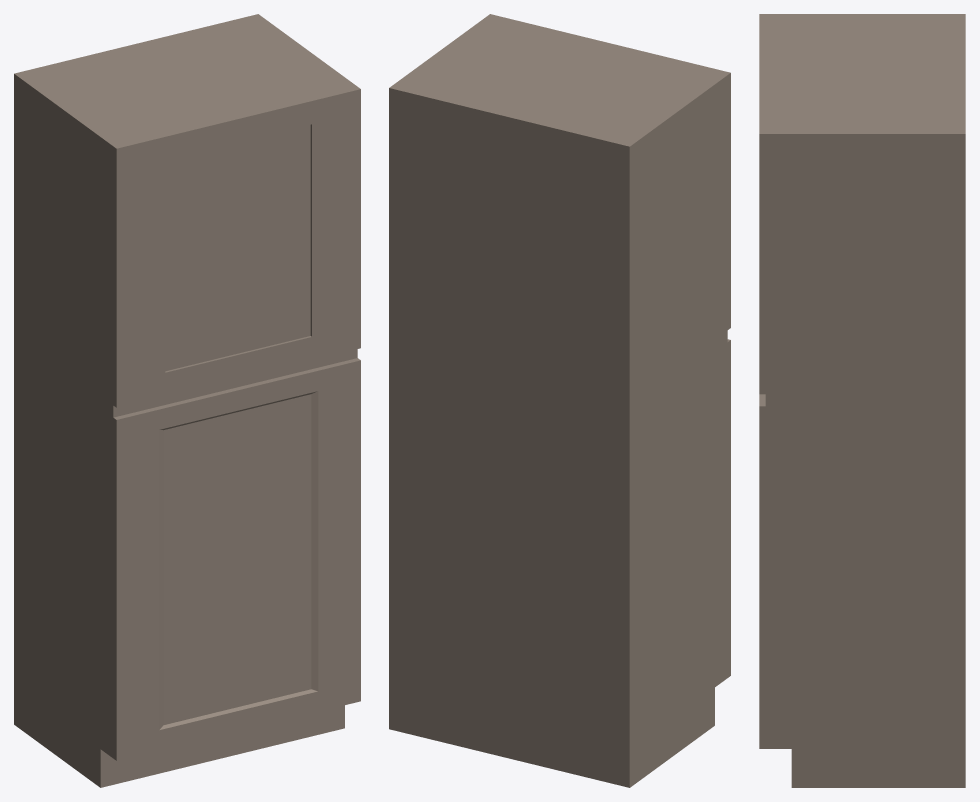
File: Utility-Cabinet-24-Deep_std_001_W33in_2D.glb
3 renders of one model, left to right at view 1: azimuth 30°, elevation 25°; view 2: azimuth 150°, elevation 25°; view 3: azimuth 270°, elevation 25°, orthographic. The views are drawn at different scales.
Visible parts, largest first — view 1: Utility-Cabinet-24-Deep.std.001_W33in_2D; view 2: Utility-Cabinet-24-Deep.std.001_W33in_2D; view 3: Utility-Cabinet-24-Deep.std.001_W33in_2D.
Part boxes in pixels (bbox=[...]): Utility-Cabinet-24-Deep.std.001_W33in_2D: bbox=[14, 14, 360, 787]; Utility-Cabinet-24-Deep.std.001_W33in_2D: bbox=[389, 14, 730, 787]; Utility-Cabinet-24-Deep.std.001_W33in_2D: bbox=[759, 14, 965, 787].
Bounding box in the file's own units: 0.8382 × 2.13 × 0.6096.
